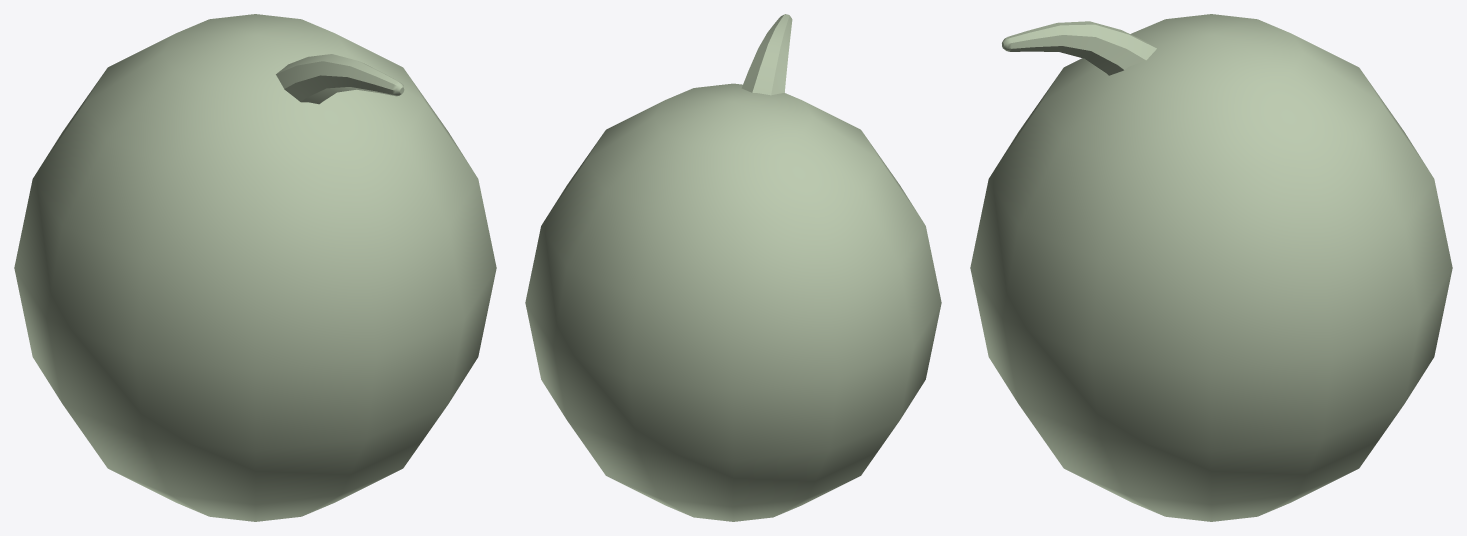
Rendered from marsh_wisp.gltf.
3 views of the same model, side by side, from view 1: azimuth 30°, elevation 25°; view 2: azimuth 150°, elevation 25°; view 3: azimuth 270°, elevation 25° (orthographic). The views are drawn at different scales.
Visible parts, largest first — view 1: Halo, Core; view 2: Halo, Core; view 3: Halo, Core.
Part boxes in pixels (x1=…): Halo: x1=14, y1=14, x2=496, y2=521; Core: x1=276, y1=54, x2=404, y2=104; Halo: x1=525, y1=83, x2=941, y2=521; Core: x1=741, y1=14, x2=792, y2=95; Halo: x1=970, y1=14, x2=1452, y2=521; Core: x1=1002, y1=21, x2=1156, y2=75.
Size of the model in its own units: 1.24 by 1.39 by 1.24.
